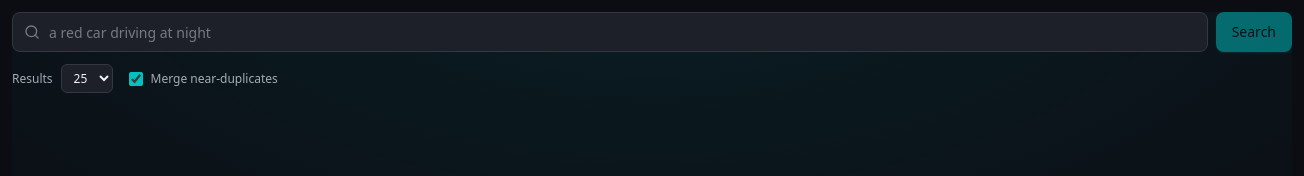
Test: states the user can get stuck in › surfaces a failed request instead of showing an empty grid
The width and height of the screenshot is (1304, 176).
Type "laptop" into the search field at (610, 32), box [12,12,1208,52]
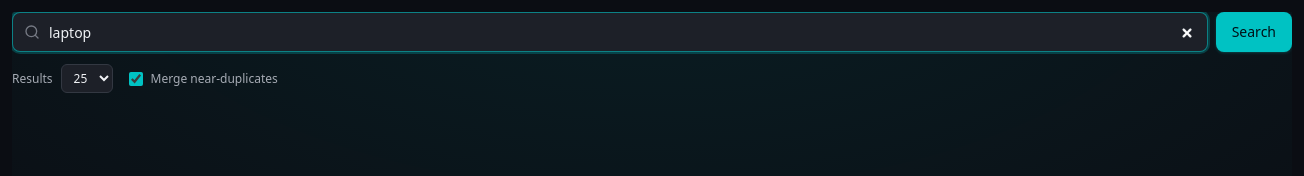
Click the button "Search" at (1254, 32), box [1216,12,1292,52]
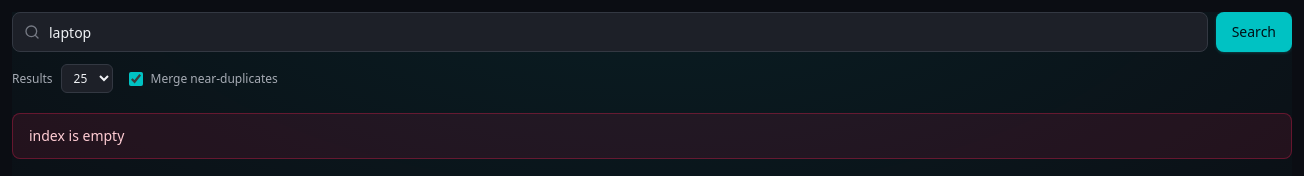
Now the message reads "index is empty", box [29,126,124,145]
